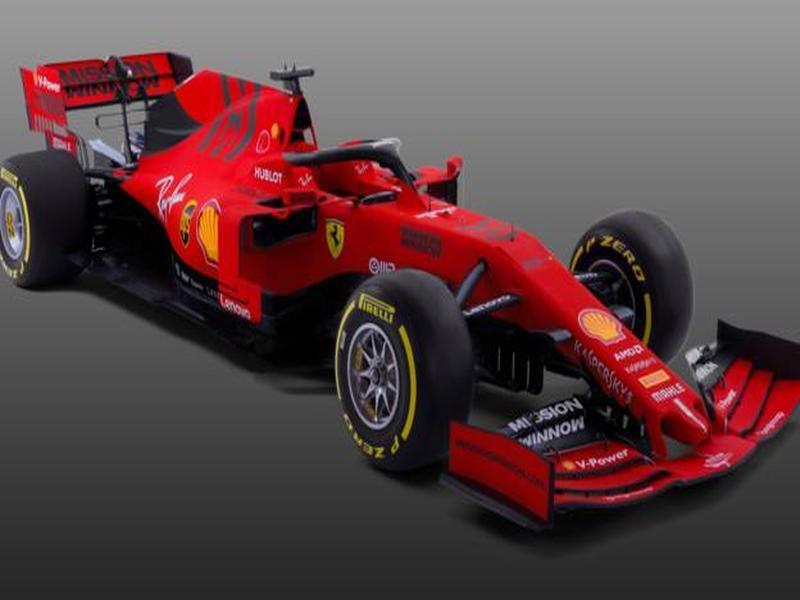f1: (5, 45, 783, 546)
